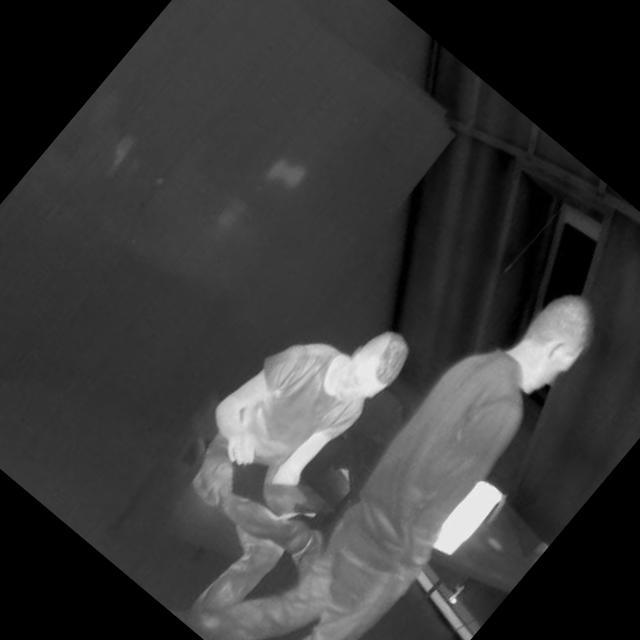person: (201, 215, 640, 640), (91, 263, 470, 640)
